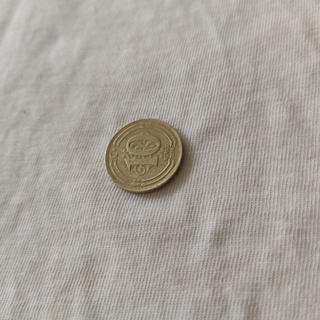10KURUS: (103, 116, 185, 194)
